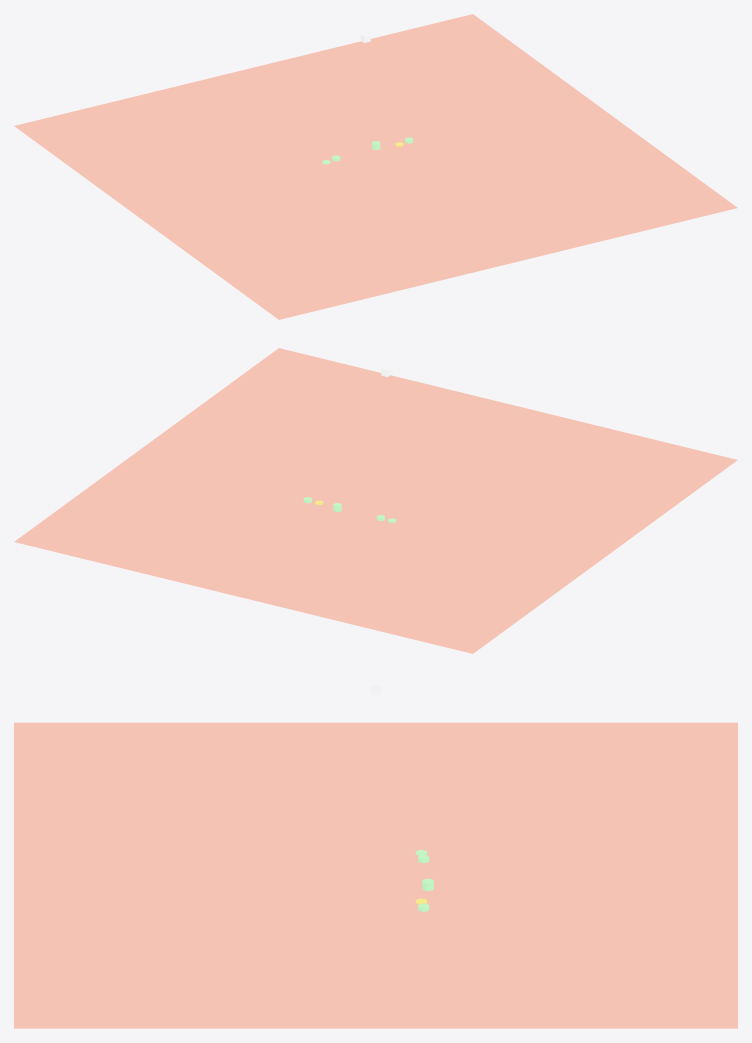
File: forecast-dir-chart.glb
3 renders of one model, top to bottom at view 1: azimuth 30°, elevation 25°; view 2: azimuth 150°, elevation 25°; view 3: azimuth 270°, elevation 25°, orthographic. The views are drawn at different scales.
Parts seen in each view (by area): view 1: ReferencePlane; view 2: ReferencePlane; view 3: ReferencePlane.
Part boxes in pixels (bbox=[...]): ReferencePlane: bbox=[14, 14, 737, 319]; ReferencePlane: bbox=[14, 348, 737, 653]; ReferencePlane: bbox=[14, 722, 737, 1028].
Bounding box in the file's own units: 22 × 9.1 × 22.
